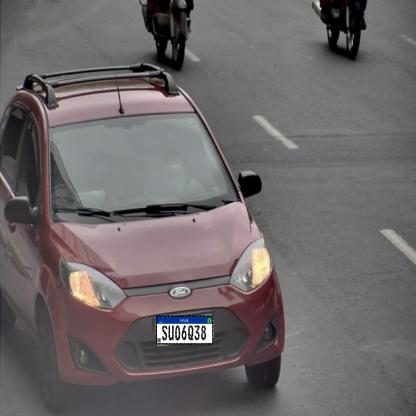PlacaM: (156, 315, 213, 344)
